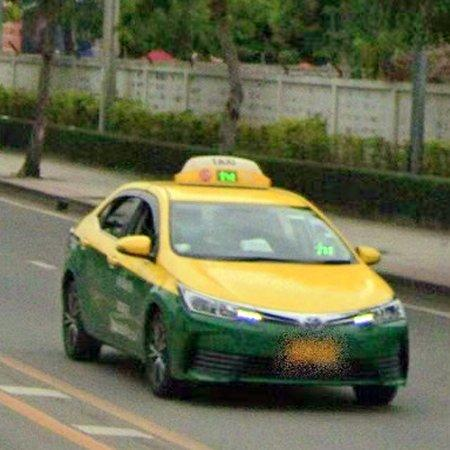taxis: (61, 156, 410, 405)
